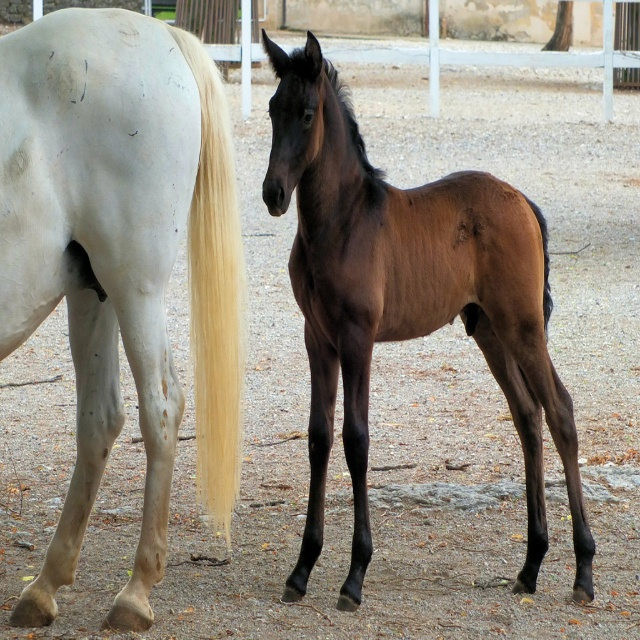Horse: (258, 31, 596, 605), (0, 3, 249, 636)
